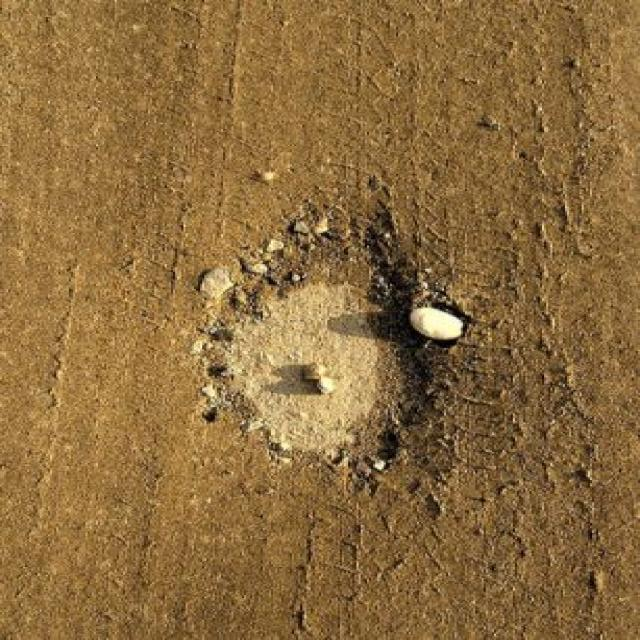pothole: (180, 208, 478, 477)
